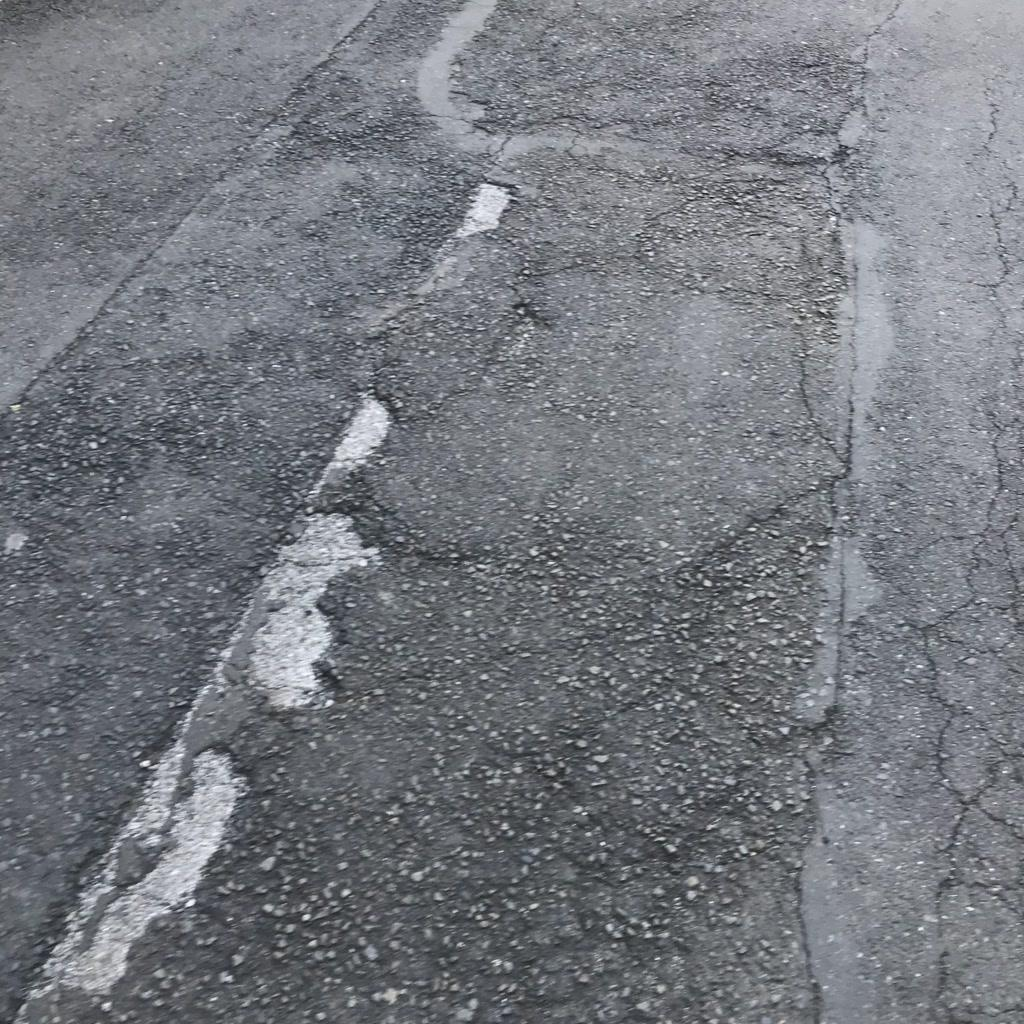pothole: (33, 392, 398, 978)
